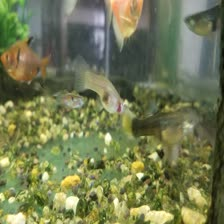Guppy: (109, 103, 202, 150), (71, 52, 127, 115), (183, 0, 223, 43)
Transparente: (0, 34, 54, 88)
